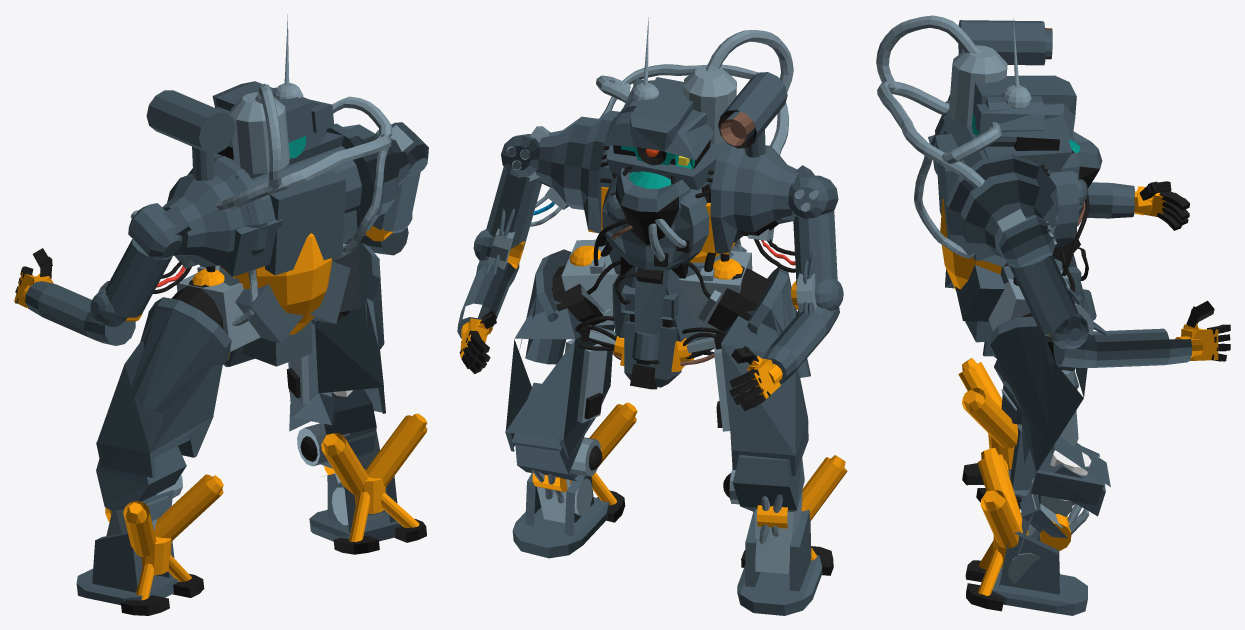
The model's file is deep space robot.glb.
The picture shows the model from 3 angles, left to right: view 1: azimuth 30°, elevation 25°; view 2: azimuth 150°, elevation 25°; view 3: azimuth 270°, elevation 25°; orthographic projection. The views are drawn at different scales.
Parts seen in each view (by area): view 1: group1540490610, group883343216, group1093835587, group1141538176, group1360564706, group72576271, group1474415853, group136007698; view 2: group1540490610, group883343216, group1474415853, group221446973, group1923443198, group699229793, group1360564706, group1141538176, group1093835587, group136007698; view 3: group1540490610, group985861437, group883343216, group1923443198, group1141538176, group140126695, group1804926799, group136007698, group572601098, group1474415853.
Part boxes in pixels (x1,y1,x2,y2): group1540490610: [14, 14, 428, 615]; group883343216: [289, 389, 376, 468]; group1093835587: [289, 392, 334, 425]; group1141538176: [332, 96, 392, 139]; group1360564706: [297, 423, 350, 466]; group72576271: [192, 146, 214, 180]; group1474415853: [290, 355, 331, 404]; group136007698: [332, 487, 385, 525]; group1540490610: [457, 17, 847, 615]; group883343216: [515, 433, 585, 481]; group1474415853: [565, 339, 607, 423]; group221446973: [720, 111, 755, 145]; group1923443198: [511, 382, 560, 451]; group699229793: [632, 331, 659, 360]; group1360564706: [569, 437, 600, 476]; group1141538176: [596, 75, 630, 102]; group1093835587: [558, 387, 609, 458]; group136007698: [574, 478, 592, 515]; group1540490610: [876, 15, 1230, 615]; group985861437: [1030, 470, 1105, 505]; group883343216: [1020, 451, 1105, 538]; group1923443198: [1050, 436, 1110, 486]; group1141538176: [942, 122, 1001, 164]; group140126695: [1040, 514, 1071, 550]; group1804926799: [1002, 85, 1031, 109]; group136007698: [1008, 553, 1040, 583]; group572601098: [1050, 450, 1091, 500]; group1474415853: [1060, 370, 1078, 446].
Size of the model in its own units: 0.9138 by 1.38 by 0.7988.
